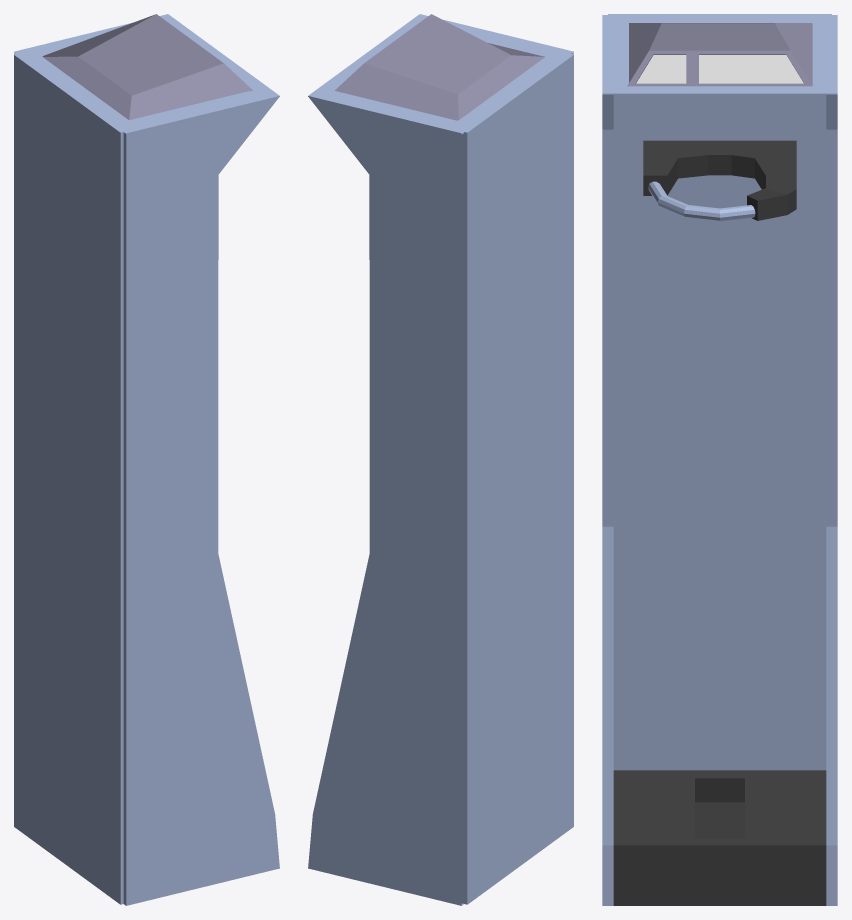
The model's file is rsch.automation-weapon-rack-only.fbx.
3 renders of one model, left to right at view 1: azimuth 30°, elevation 25°; view 2: azimuth 150°, elevation 25°; view 3: azimuth 270°, elevation 25°, orthographic. The views are drawn at different scales.
Parts seen in each view (by area): view 1: rack.left.wall, rack.back.wall, rack.rfid.lid, rack.top.wall; view 2: rack.back.wall, rack.right.wall, rack.rfid.lid, rack.top.wall; view 3: rack.back.wall, rack.padding, rack.rfid.lid, rack.left.wall, rack.right.wall, rack.clamper.base, rack.top.wall, rack.clamper.mov.
Boxes of the visible parts, x1,y1,x2,y2 form: rack.left.wall: [123, 96, 279, 905]; rack.back.wall: [14, 54, 123, 904]; rack.rfid.lid: [42, 14, 253, 120]; rack.top.wall: [14, 14, 279, 133]; rack.back.wall: [461, 54, 573, 904]; rack.right.wall: [308, 96, 463, 905]; rack.rfid.lid: [334, 14, 544, 120]; rack.top.wall: [308, 14, 573, 133]; rack.back.wall: [608, 14, 831, 770]; rack.padding: [613, 770, 826, 905]; rack.rfid.lid: [627, 23, 812, 86]; rack.left.wall: [602, 95, 613, 905]; rack.right.wall: [826, 95, 837, 905]; rack.clamper.base: [643, 140, 796, 220]; rack.top.wall: [602, 15, 837, 94]; rack.clamper.mov: [648, 181, 755, 221].
Size of the model in its own units: 25.5 by 124 by 31.5.
